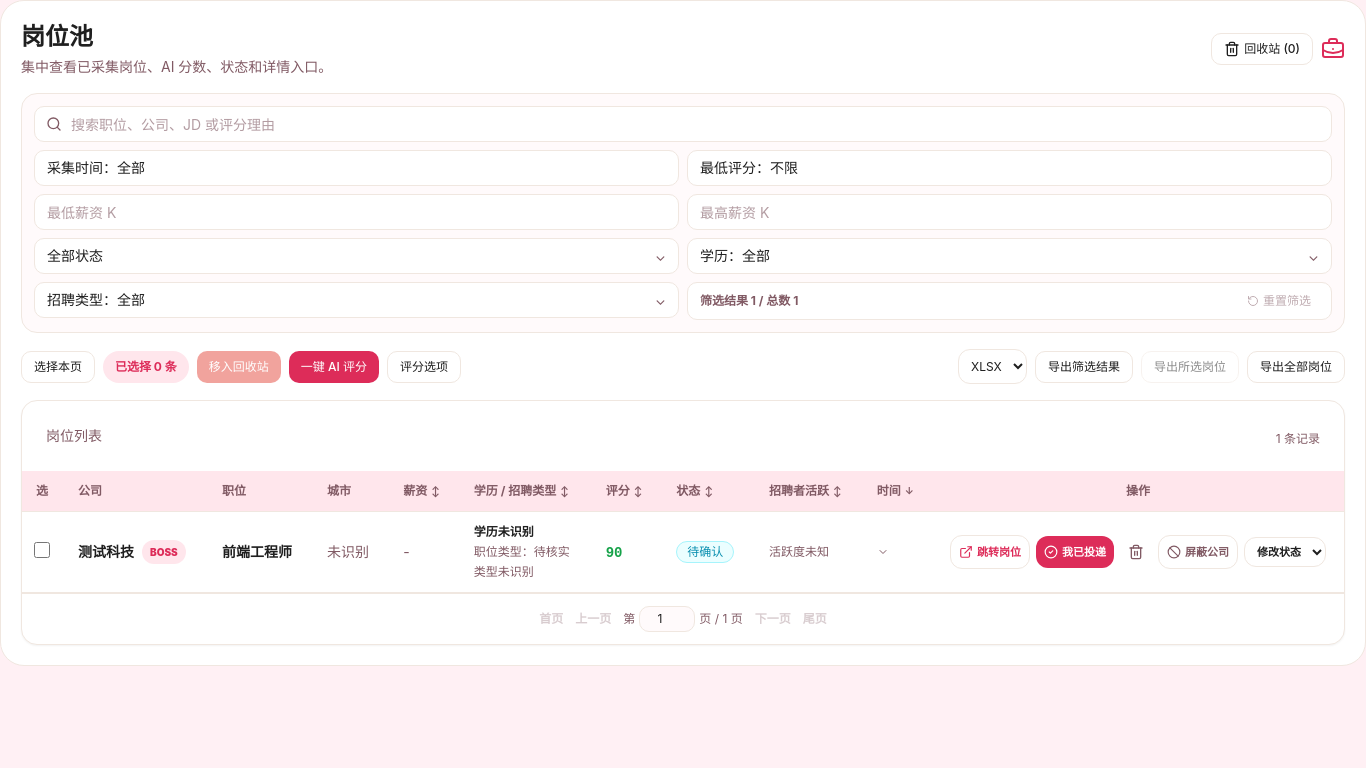
it: 岗位列表屏蔽公司 › does not save when confirmation is cancelled
The image size is (1366, 768).
Click the button with aria-label "屏蔽公司 测试科技". click: (1198, 552)
box: [1158, 535, 1238, 569]
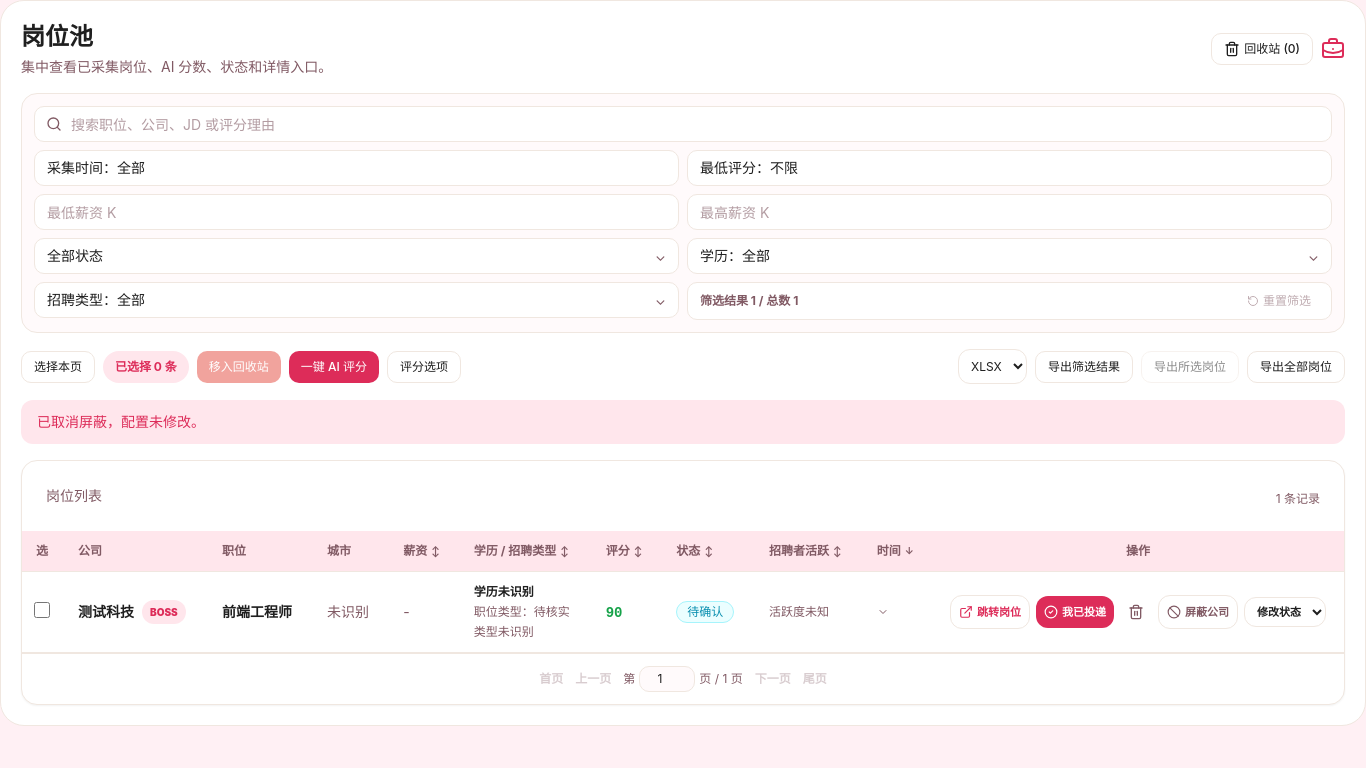
Check: the button with aria-label "屏蔽公司 测试科技" is enabled, box [1158, 595, 1238, 629]
Check: the text "已取消屏蔽，配置未修改。" is shown, box [21, 400, 1345, 444]
